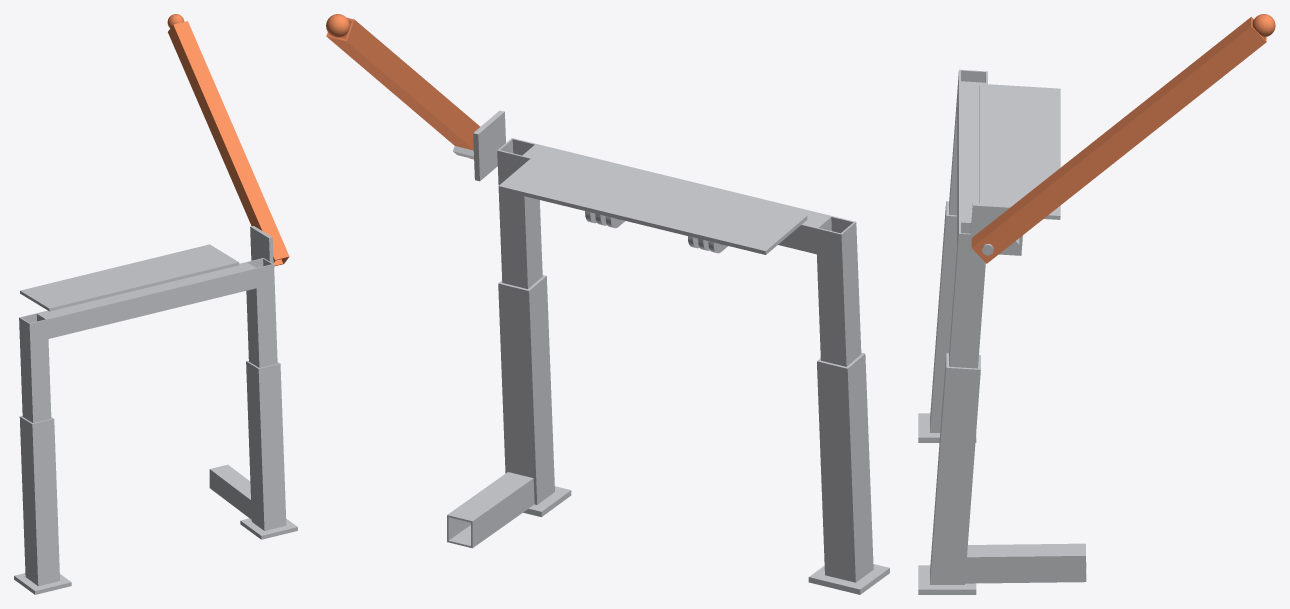
File: center_stand_v4_deployed.glb
The picture shows the model from 3 angles, left to right: view 1: azimuth 30°, elevation 25°; view 2: azimuth 150°, elevation 25°; view 3: azimuth 270°, elevation 25°; orthographic projection. The views are drawn at different scales.
Parts seen in each view (by area): view 1: frame, handle; view 2: frame, handle; view 3: frame, handle.
Boxes of the visible parts, x1=… form: frame: x1=14, y1=226, x2=297, y2=594; handle: x1=167, y1=14, x2=289, y2=266; frame: x1=447, y1=110, x2=889, y2=594; handle: x1=326, y1=14, x2=480, y2=159; frame: x1=918, y1=69, x2=1086, y2=594; handle: x1=971, y1=14, x2=1275, y2=263.
Size of the model in its own units: 0.4794 by 0.7038 by 0.391.
